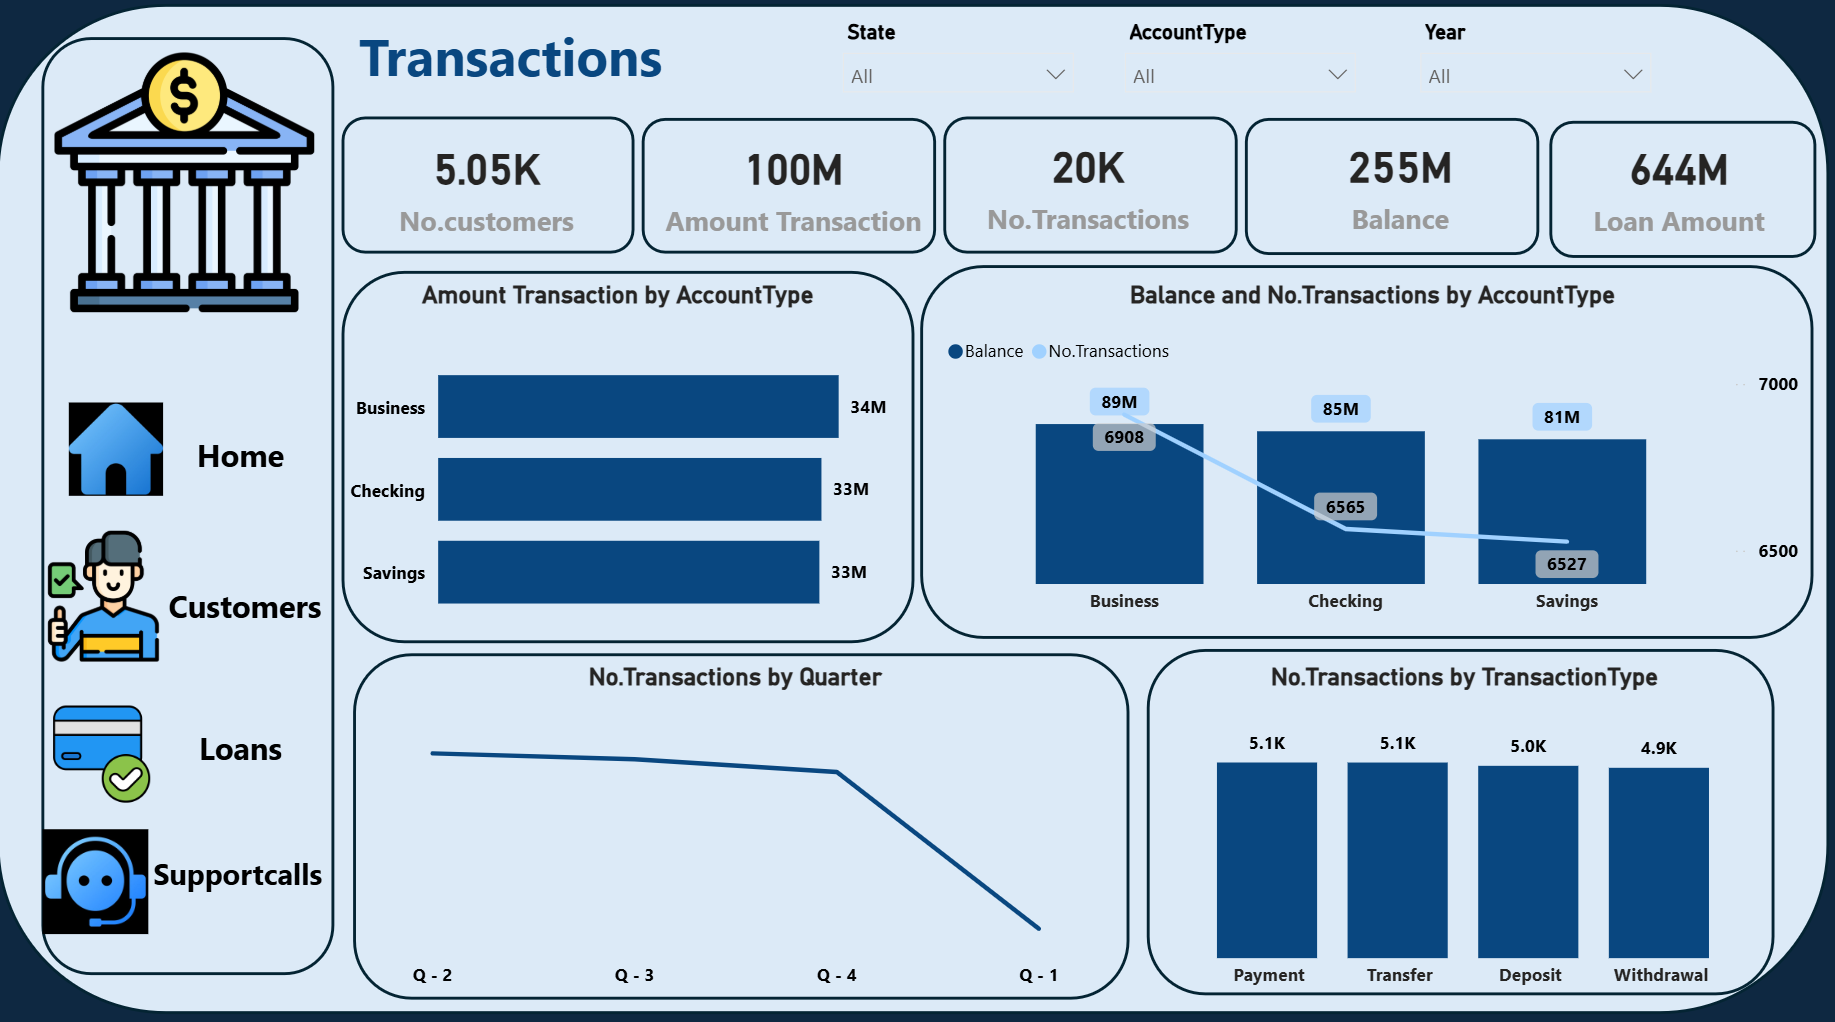

This screenshot's page, from the dashboard's own definition file:
{"tool":"powerbi","page":{"name":"Transactions","canvas":[1280,720],"ordinal":2},"visuals":[{"type":"card","fields":{"Values":["Calculation Overview.No.customers"]},"box":[266.5,90.4,155.3,83.4],"z":0},{"type":"card","fields":{"Values":["Calculation Overview.No.Transactions"]},"box":[682.5,89.2,155.3,83.4],"z":1000},{"type":"card","fields":{"Values":["Calculation Overview.Balance"]},"box":[907.3,89.2,139,83.4],"z":2000},{"type":"card","fields":{"Values":["Calculation Overview.Amount Transaction"]},"box":[457.7,90.4,198.1,83.4],"z":3000},{"type":"card","fields":{"Values":["Calculation Overview.Loan Amount"]},"box":[1092.7,89.2,155.3,85.7],"z":4000},{"type":"clusteredBarChart","fields":{"Y":["Calculation Overview.Amount Transaction"],"Category":["Accounts.AccountType"]},"box":[243.3,198.1,383.5,254.9],"z":5000},{"type":"lineClusteredColumnComboChart","fields":{"Y":["Calculation Overview.Balance"],"Category":["Accounts.AccountType"],"Y2":["Calculation Overview.No.Transactions"]},"box":[658.2,198.1,600.2,241],"z":6000},{"type":"lineChart","fields":{"Y":["Calculation Overview.No.Transactions"],"Category":["Calender.Quarter"]},"box":[245.7,463.5,542.3,235.2],"z":7000},{"type":"lineClusteredColumnComboChart","fields":{"Category":["Transactions.TransactionType"],"Y":["Calculation Overview.No.Transactions"]},"box":[808.8,463.5,426.4,235.2],"z":8000},{"type":"slicer","fields":{"Values":["customers.State"]},"box":[581,13.7,180,59.2],"z":9000},{"type":"slicer","fields":{"Values":["Accounts.AccountType"]},"box":[776.9,13.7,180,59.2],"z":10000},{"type":"slicer","fields":{"Values":["Calender.Year"]},"box":[980.8,13.7,180,59.2],"z":11000},{"type":"image","box":[44.4,41,180,181.1],"z":12000},{"type":"shape","box":[107.8,297.8,130.9,44],"z":13000},{"type":"shape","box":[107.8,500.6,130.9,42.9],"z":14000},{"type":"shape","box":[105.4,588.6,133.3,44],"z":15000},{"type":"shape","box":[111.2,402.1,130.9,42.9],"z":16000},{"type":"image","box":[33.6,368.5,90.4,99.7],"z":17000},{"type":"image","box":[42.9,283.9,89.2,64.9],"z":18000},{"type":"image","box":[35.9,493.6,82.3,67.2],"z":19000},{"type":"image","box":[35.9,574.7,73,82.3],"z":20000},{"type":"shape","box":[246.1,13.7,229,59.2],"z":21000}]}

Visuals, with their boxes in screenshot pixels (x1, y1, x2, y2), scaled from the page's 1280x720 canvas onto the 1835x1022 screenshot:
card - Calculation Overview.No.customers: 382, 128, 605, 247
card - Calculation Overview.No.Transactions: 978, 127, 1201, 245
card - Calculation Overview.Balance: 1301, 127, 1500, 245
card - Calculation Overview.Amount Transaction: 656, 128, 940, 247
card - Calculation Overview.Loan Amount: 1566, 127, 1789, 248
clusteredBarChart - Calculation Overview.Amount Transaction x Accounts.AccountType: 349, 281, 899, 643
lineClusteredColumnComboChart - Calculation Overview.Balance x Accounts.AccountType: 944, 281, 1804, 623
lineChart - Calculation Overview.No.Transactions x Calender.Quarter: 352, 658, 1130, 992
lineClusteredColumnComboChart - Transactions.TransactionType x Calculation Overview.No.Transactions: 1159, 658, 1771, 992
slicer - customers.State: 833, 19, 1091, 103
slicer - Accounts.AccountType: 1114, 19, 1372, 103
slicer - Calender.Year: 1406, 19, 1664, 103
image: 64, 58, 322, 315
shape: 155, 423, 342, 485
shape: 155, 711, 342, 771
shape: 151, 835, 342, 898
shape: 159, 571, 347, 632
image: 48, 523, 178, 665
image: 62, 403, 189, 495
image: 51, 701, 169, 796
image: 51, 816, 156, 933
shape: 353, 19, 681, 103
